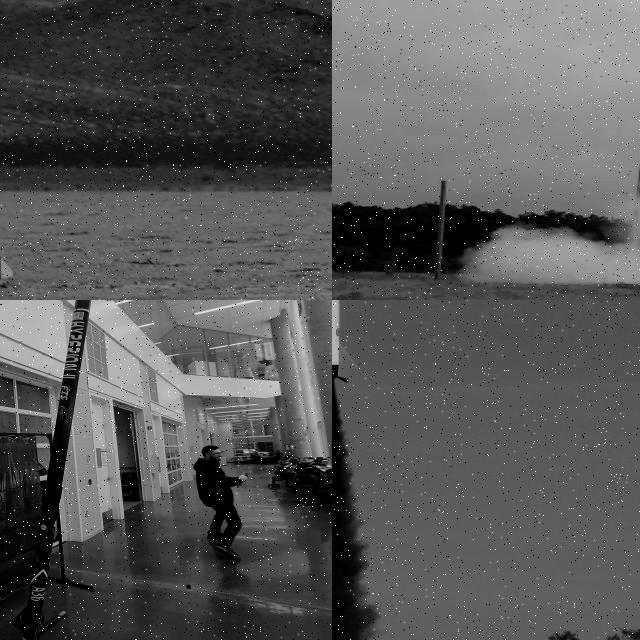Rocket: (12, 300, 91, 640), (0, 105, 15, 282)
